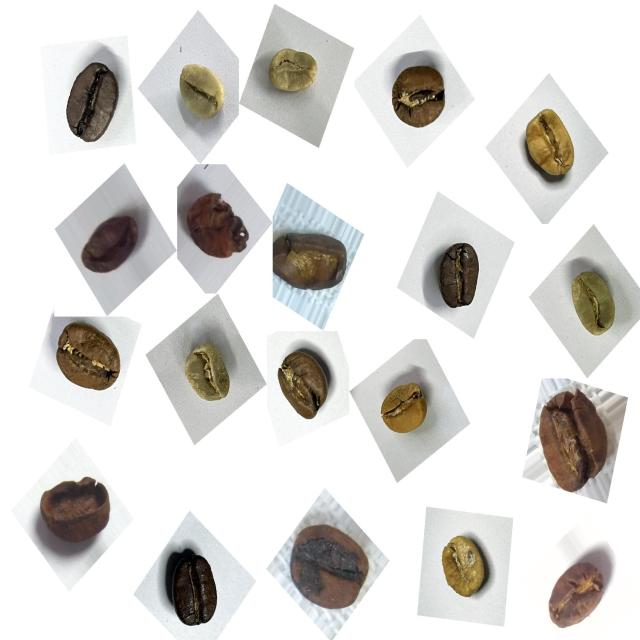bad: (528, 377, 620, 504), (284, 511, 381, 623), (30, 465, 121, 564), (270, 218, 356, 306), (177, 179, 255, 270), (542, 544, 617, 636), (74, 202, 148, 288)
dark: (52, 55, 130, 158), (153, 536, 231, 637), (427, 232, 492, 321)
green: (557, 260, 628, 350), (173, 333, 242, 417), (258, 37, 328, 111), (168, 54, 231, 136)
light: (516, 100, 590, 194), (428, 526, 496, 610), (370, 373, 435, 448)
medium: (46, 314, 131, 408), (267, 340, 339, 432), (382, 55, 456, 142)
